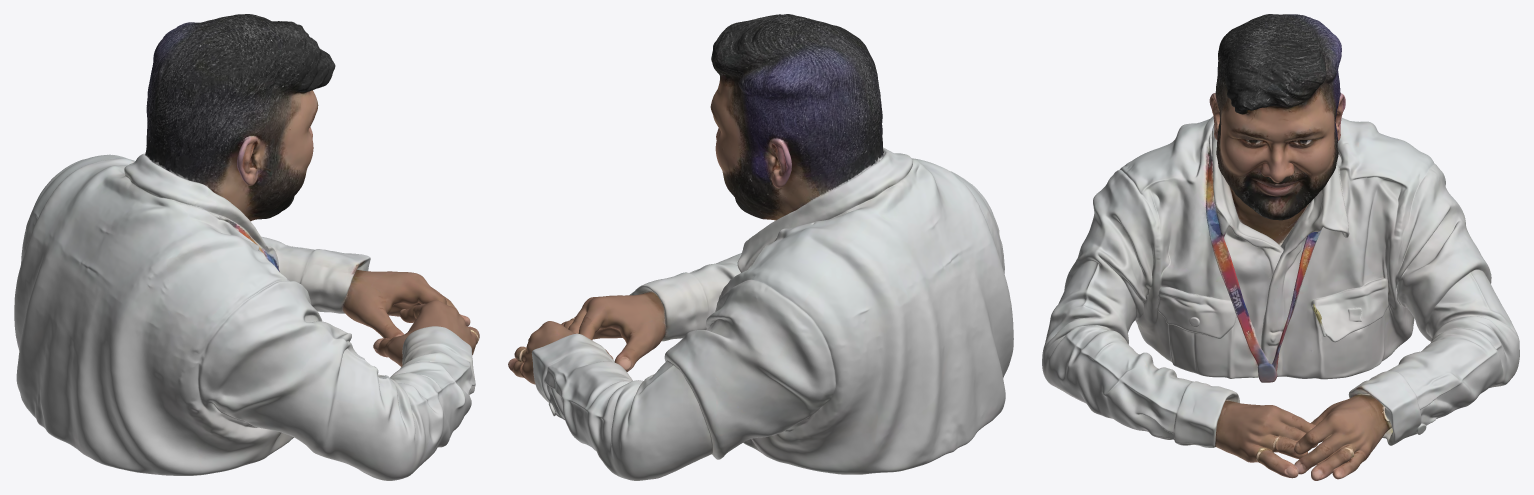
The picture shows the model from 3 angles, left to right: view 1: azimuth 30°, elevation 25°; view 2: azimuth 150°, elevation 25°; view 3: azimuth 270°, elevation 25°; orthographic projection. The views are drawn at different scales.
Parts seen in each view (by area): view 1: tripo_node_19ac01e7-de7e-4575-b8a0-fed6a26fb6a6; view 2: tripo_node_19ac01e7-de7e-4575-b8a0-fed6a26fb6a6; view 3: tripo_node_19ac01e7-de7e-4575-b8a0-fed6a26fb6a6.
Boxes of the visible parts, <box> form: tripo_node_19ac01e7-de7e-4575-b8a0-fed6a26fb6a6: <box>14,14,479,480</box>; tripo_node_19ac01e7-de7e-4575-b8a0-fed6a26fb6a6: <box>508,14,1013,480</box>; tripo_node_19ac01e7-de7e-4575-b8a0-fed6a26fb6a6: <box>1042,14,1519,480</box>.
Bounding box in the file's own units: 0.9541 × 0.7924 × 1.
1 material, 1 textured.
